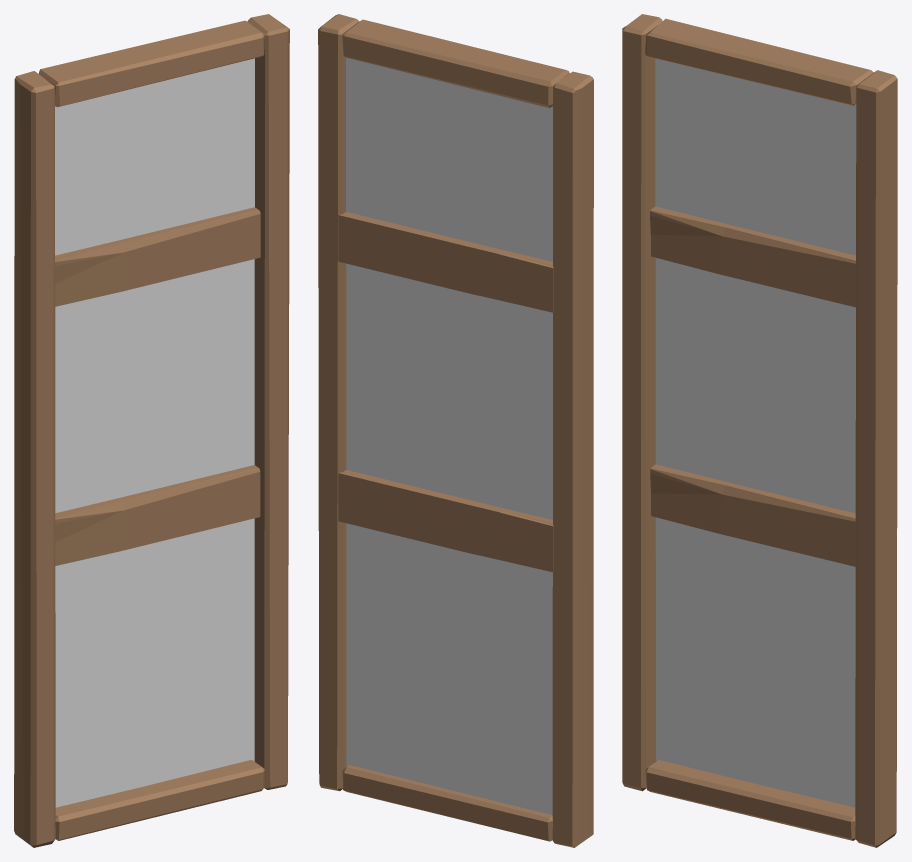
The model's file is PKX_Window_Big_Sash_L.fbx.
3 renders of one model, left to right at view 1: azimuth 30°, elevation 25°; view 2: azimuth 150°, elevation 25°; view 3: azimuth 330°, elevation 25°, orthographic.
Parts seen in each view (by area): view 1: PKX_Window_Big_Sash_L; view 2: PKX_Window_Big_Sash_L; view 3: PKX_Window_Big_Sash_L.
Boxes of the visible parts, left/top/right/bottom form: PKX_Window_Big_Sash_L: left=14, top=14, right=289, bottom=847; PKX_Window_Big_Sash_L: left=318, top=14, right=593, bottom=847; PKX_Window_Big_Sash_L: left=622, top=14, right=897, bottom=847.
Bounding box in the file's own units: 32.17 × 90.38 × 4.65.
